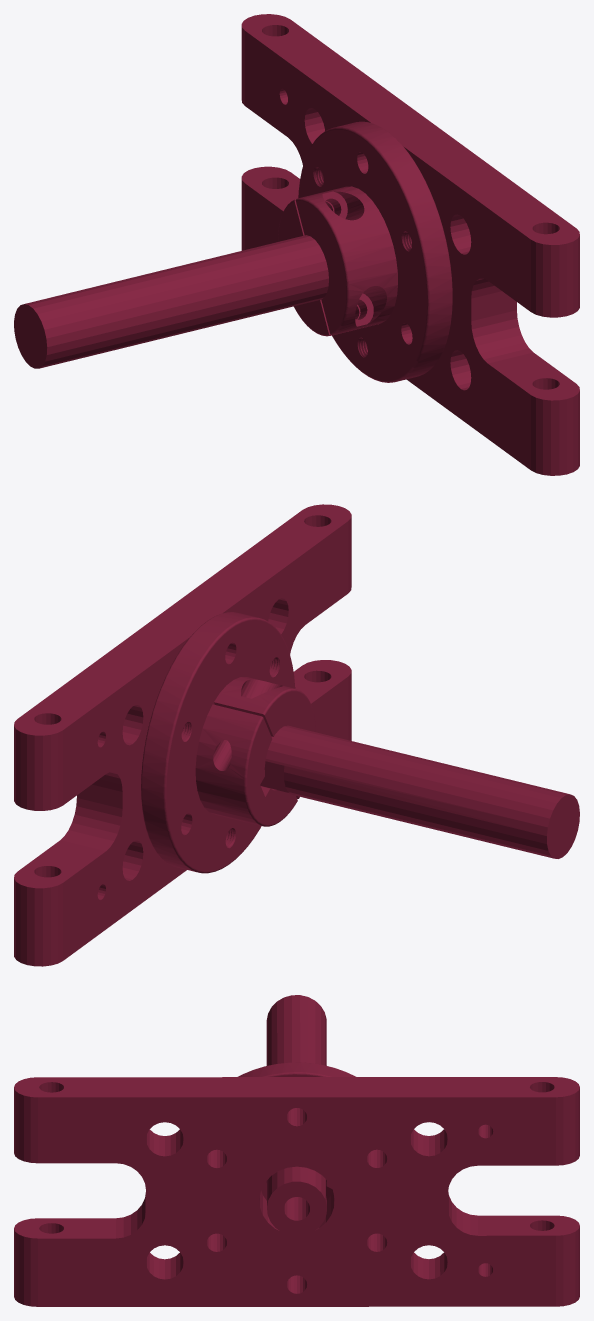
The model's file is wheel_mount.dae.
3 renders of one model, top to bottom at view 1: azimuth 30°, elevation 25°; view 2: azimuth 150°, elevation 25°; view 3: azimuth 270°, elevation 25°, orthographic. The views are drawn at different scales.
Visible parts, largest first — view 1: Wheel_Mount; view 2: Wheel_Mount; view 3: Wheel_Mount.
Boxes of the visible parts, box(x1,y1,x2,y2) form: Wheel_Mount: box(14, 14, 579, 475); Wheel_Mount: box(14, 504, 579, 966); Wheel_Mount: box(14, 995, 579, 1306).
Size of the model in its own units: 0.117 by 0.15 by 0.063.
